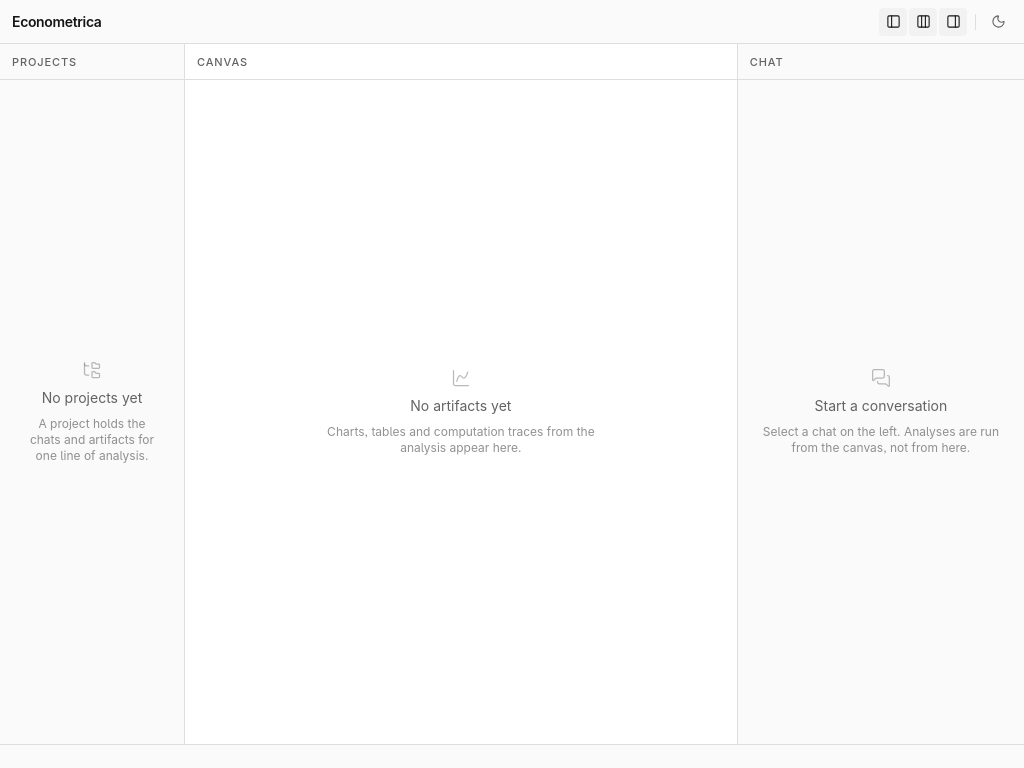
Scenario: AppShell › brings a collapsed pane back
Step 1. Click the button named "collapse chat" → (953, 22), box [939,8,967,36]
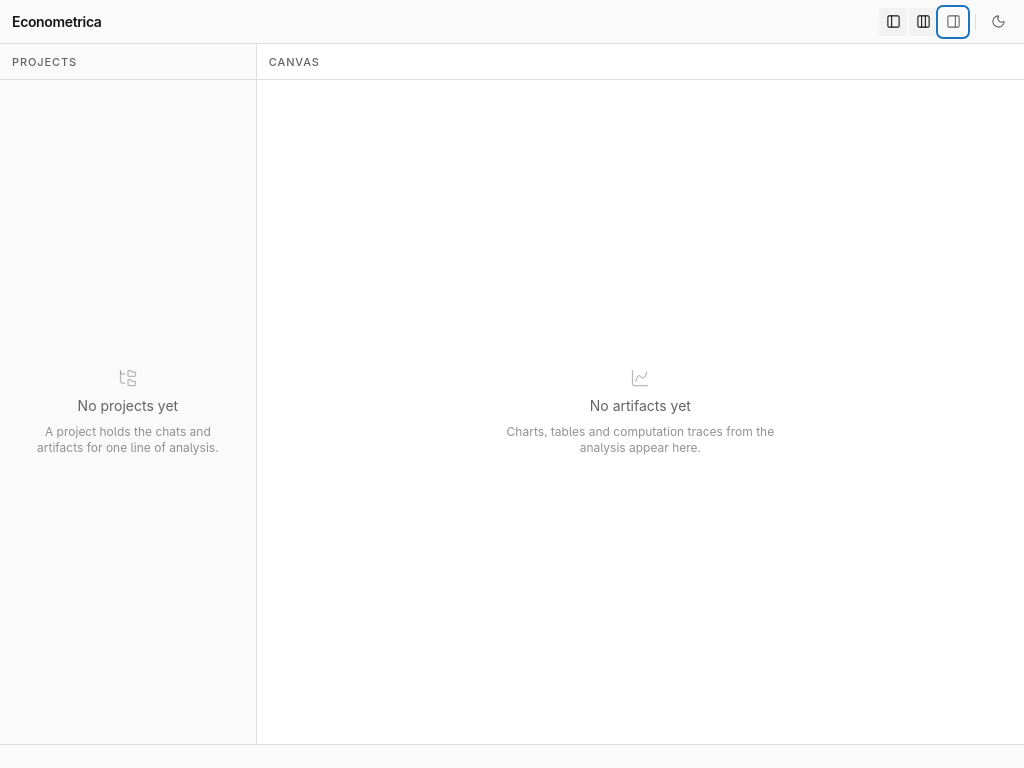
Step 2. Click the button named "expand chat" → (953, 22), box [939,8,967,36]
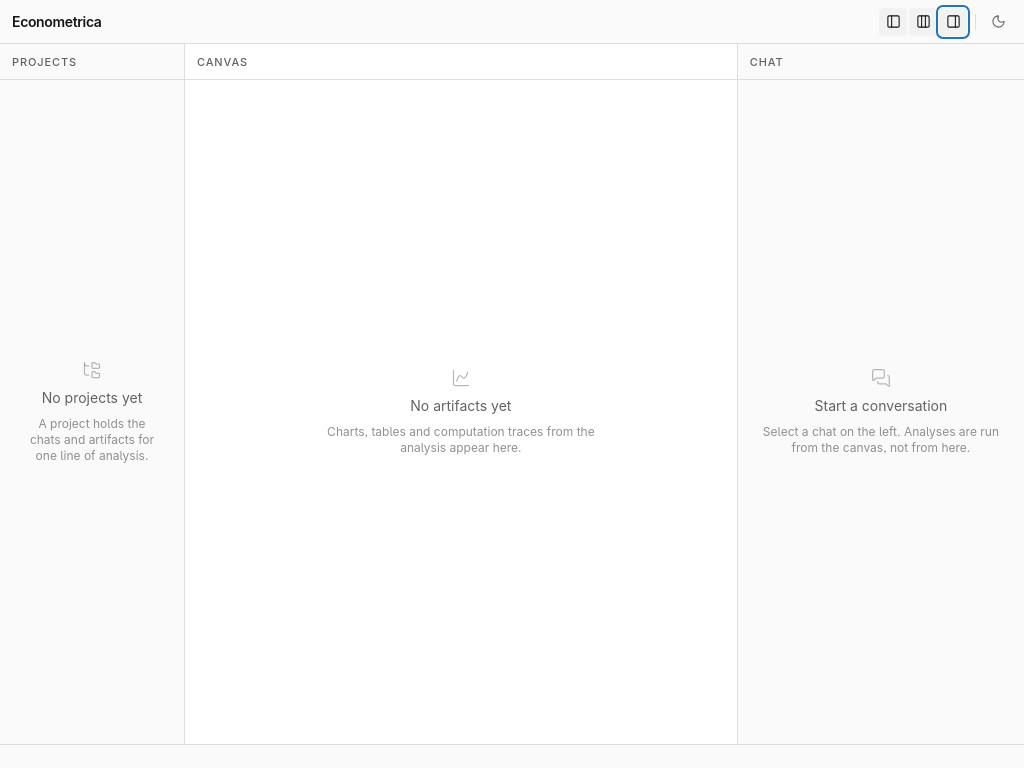
Expected: the element "Chat" is shown, [738,44,1023,744]
